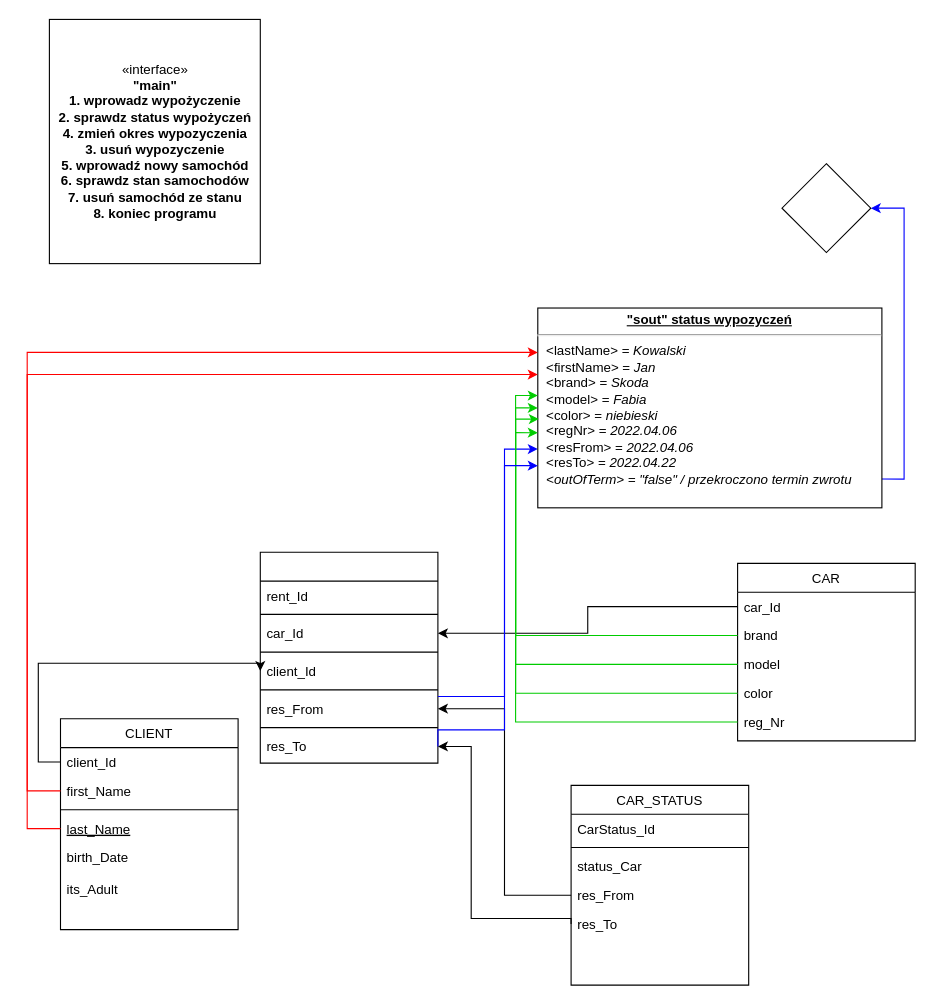
This 935x1005 diagram has some shape labels left out. Each missing label, with the box of its shape:
if systemdate>resTo: (781, 163, 871, 253)
RENT_INFO: (259, 551, 438, 763)
